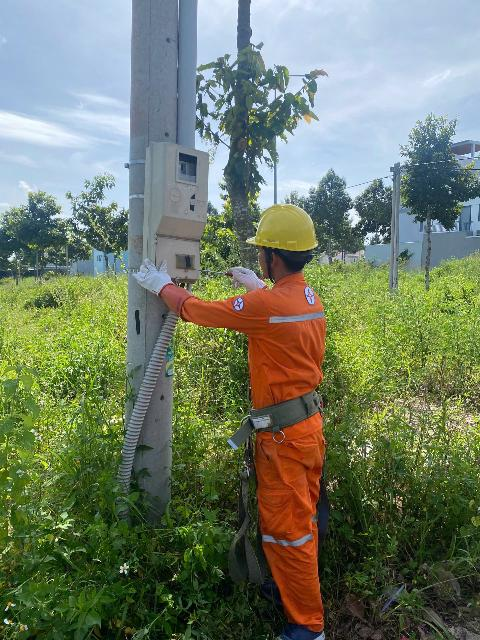gloves: (119, 260, 179, 292), (223, 260, 266, 292)
harness: (233, 389, 345, 441)
helmet: (234, 205, 327, 258)
shoes: (249, 613, 330, 640)
